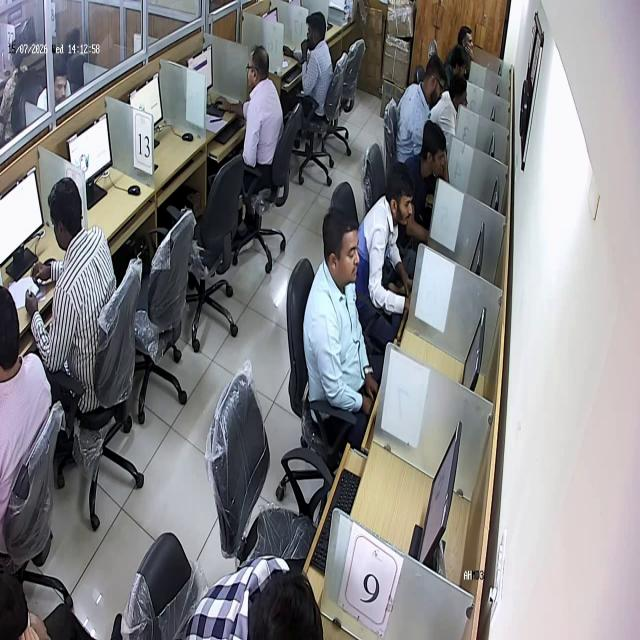paper-chit: (26, 278, 40, 296)
